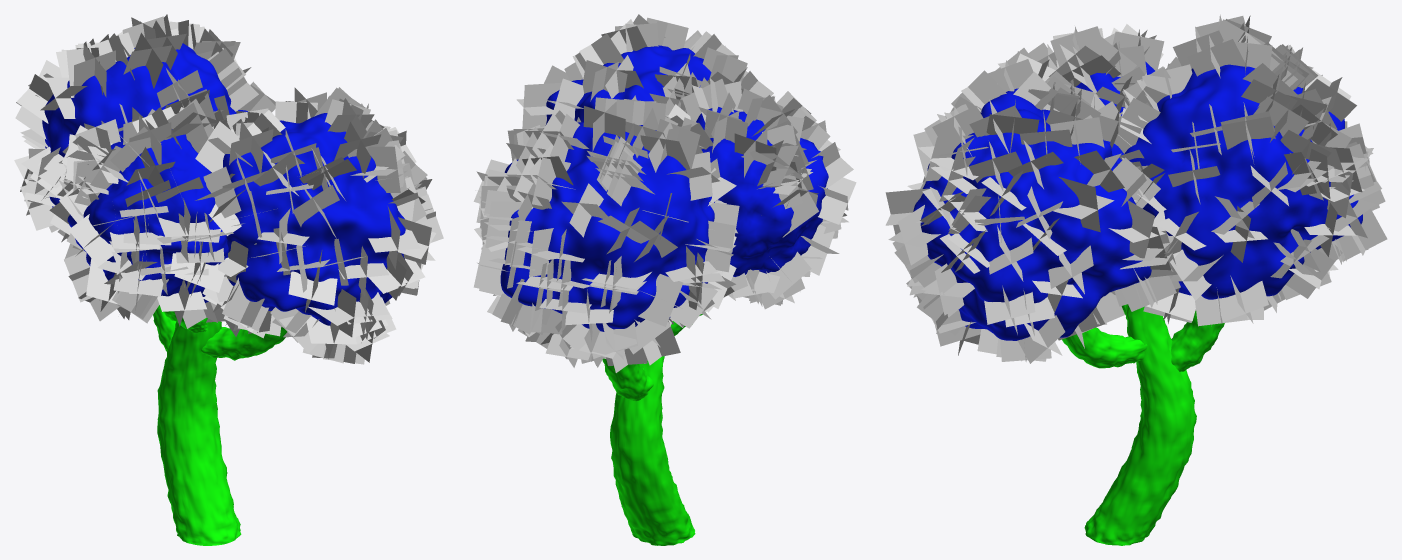
The model's file is tree1.fbx.
The picture shows the model from 3 angles, left to right: view 1: azimuth 30°, elevation 25°; view 2: azimuth 150°, elevation 25°; view 3: azimuth 270°, elevation 25°; orthographic projection. The views are drawn at different scales.
Visible parts, largest first — view 1: Plane.001, Cylinder; view 2: Plane.001, Cylinder; view 3: Plane.001, Cylinder.
Part boxes in pixels (bbox=[...]): Plane.001: bbox=[14, 14, 443, 364]; Cylinder: bbox=[42, 43, 405, 545]; Plane.001: bbox=[473, 14, 856, 372]; Cylinder: bbox=[500, 45, 828, 545]; Plane.001: bbox=[885, 14, 1387, 363]; Cylinder: bbox=[913, 61, 1362, 545].
Size of the model in its own units: 1075 by 1459 by 1342.
